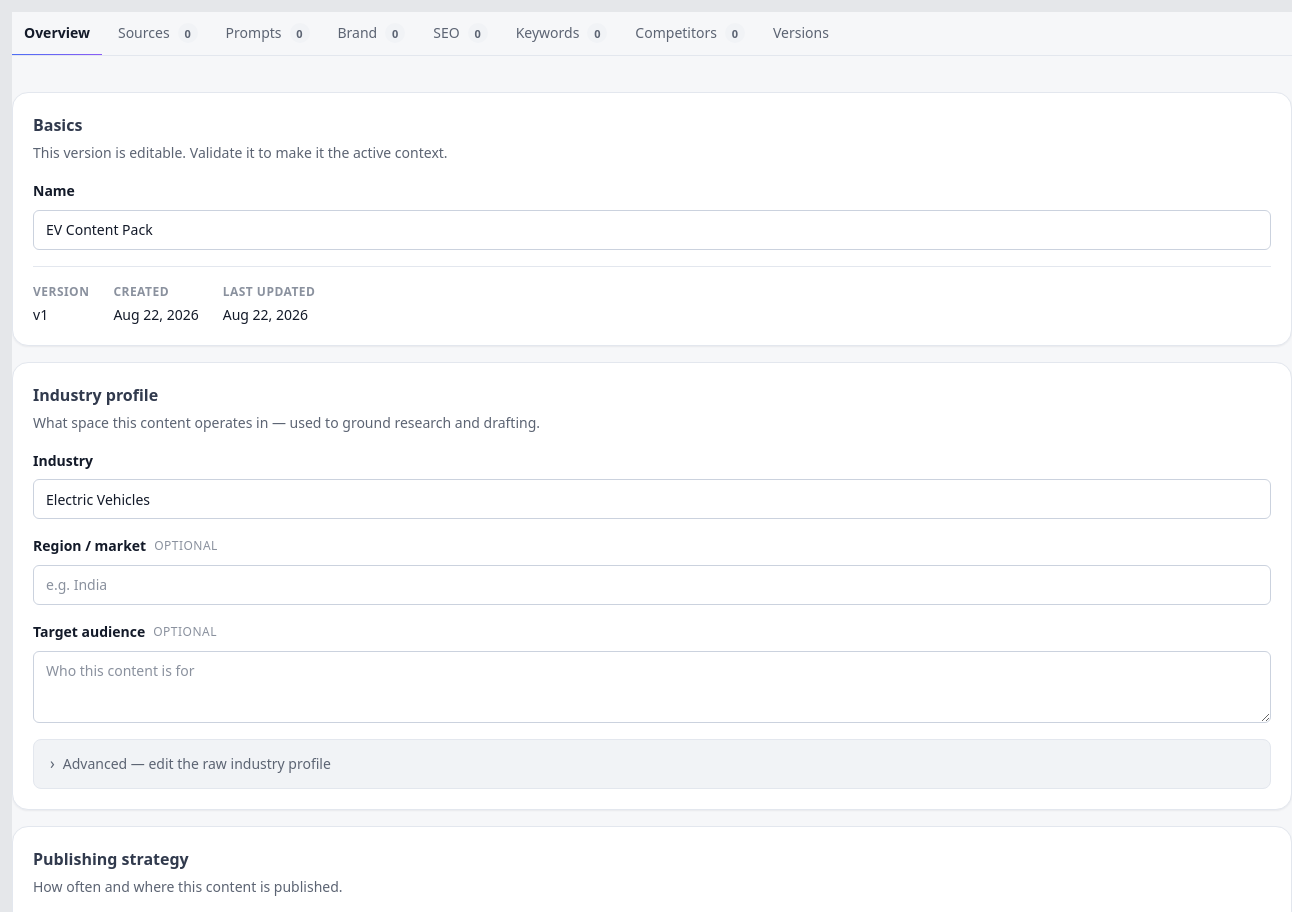
Test: KnowledgePackEditor › surfaces a stale-lock conflict without overwriting, offering a reload
The width and height of the screenshot is (1292, 912).
Type "x" into the field labelled "Industry" at (652, 500), box [33,480,1271,520]
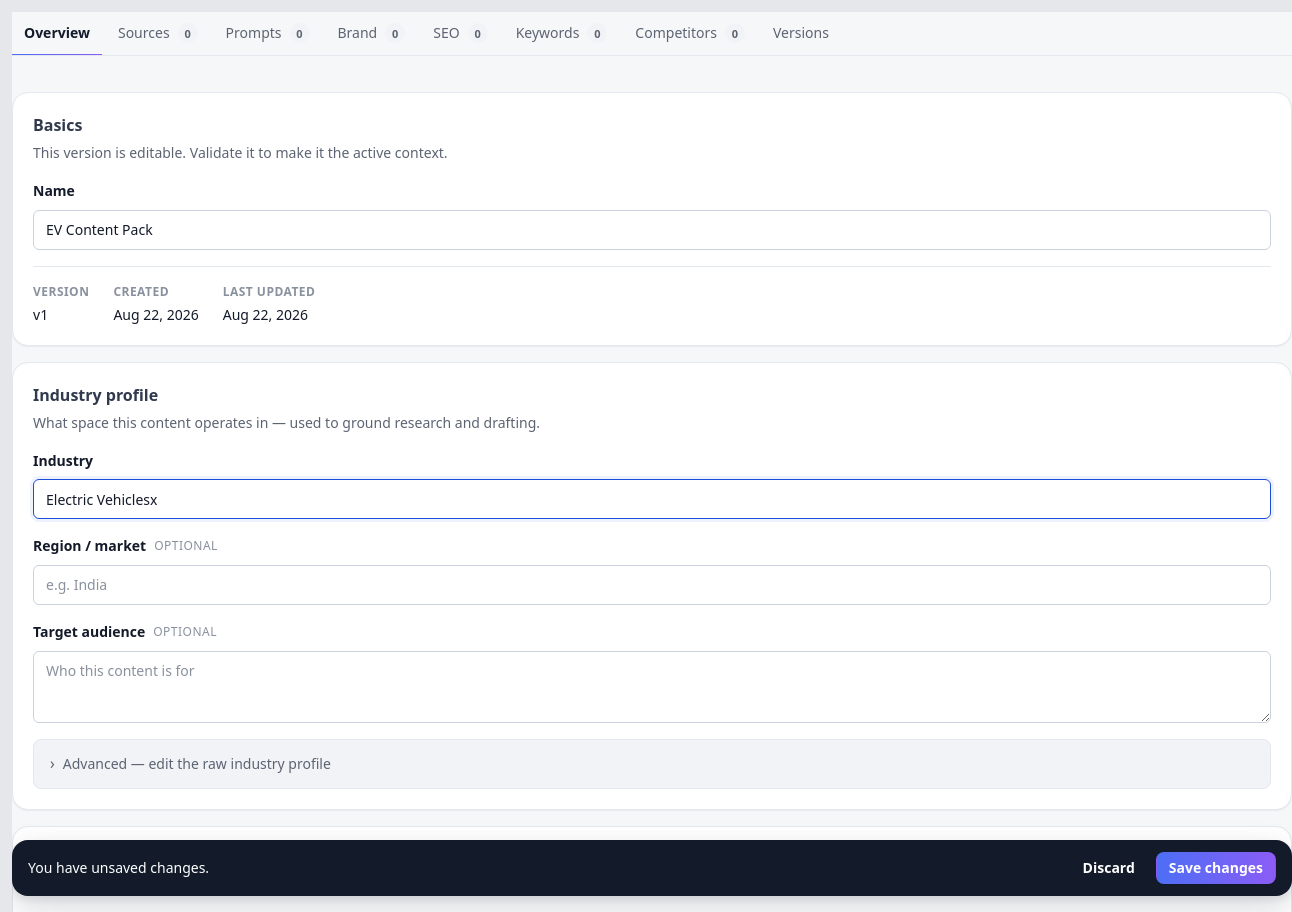
Click the button "Save changes" at (1216, 868), box [1156,852,1276,884]
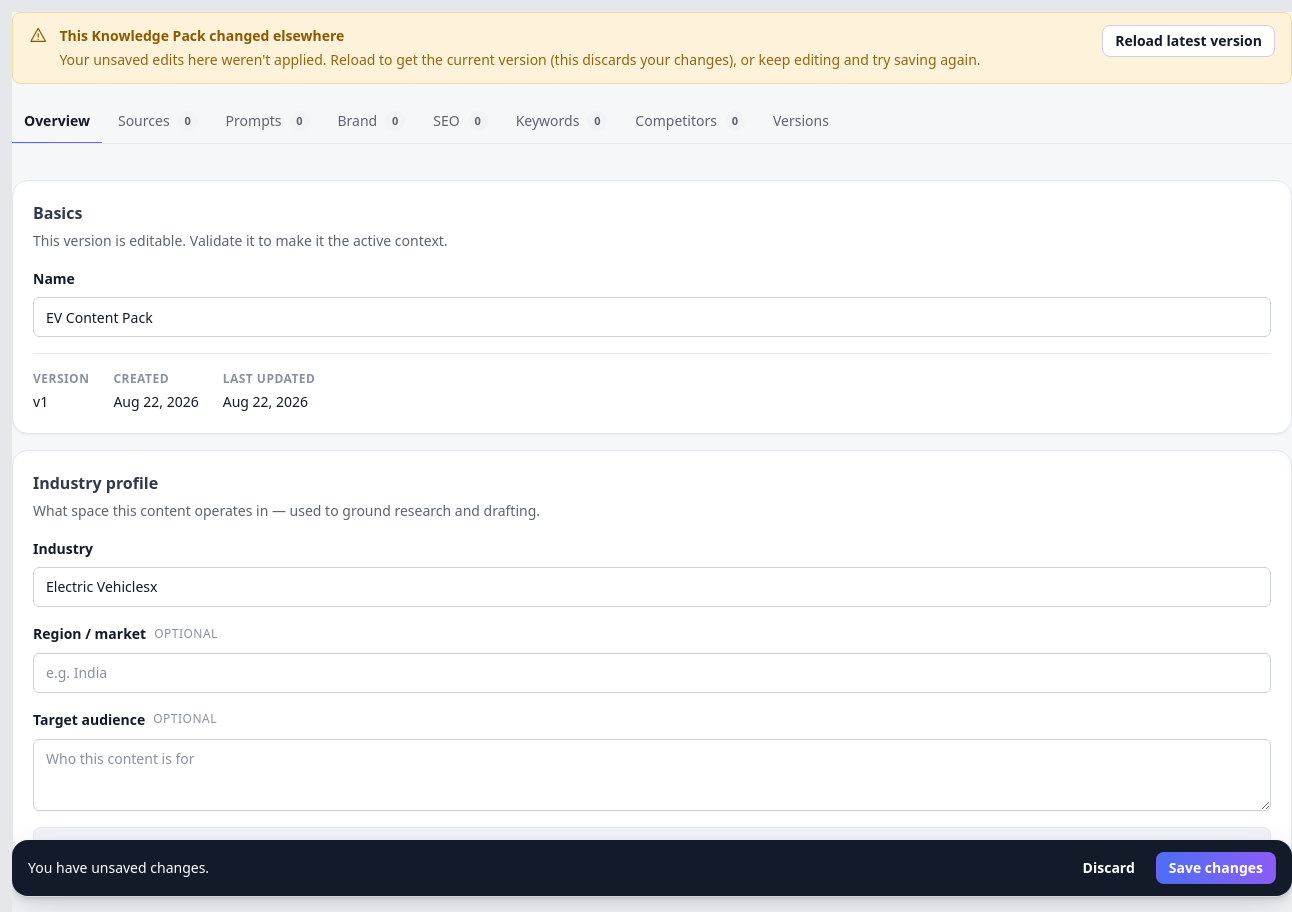
Check: the text "This Knowledge Pack changed elsewhere" is shown, box [59,26,344,45]
Check: the button "Reload latest version" is shown, box [1102,25,1275,57]
